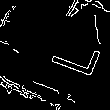L_W: (36, 37, 98, 83)
